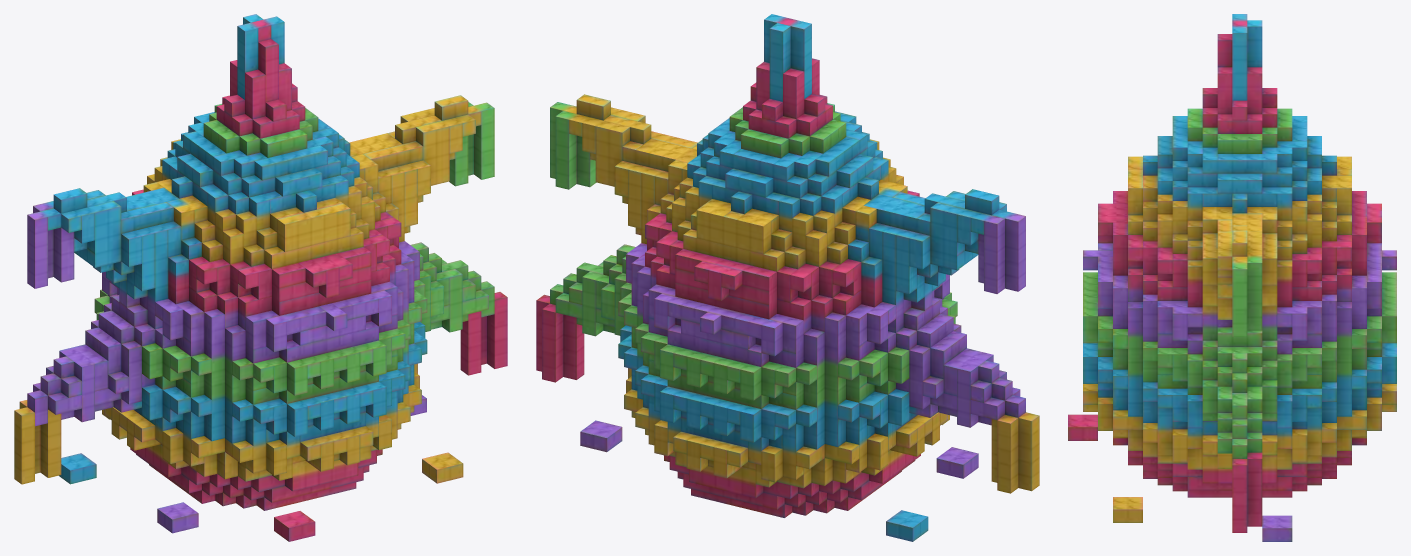
File: pinata.glb
The picture shows the model from 3 angles, left to right: view 1: azimuth 30°, elevation 25°; view 2: azimuth 150°, elevation 25°; view 3: azimuth 270°, elevation 25°; orthographic projection. The views are drawn at different scales.
Parts seen in each view (by area): view 1: Body.007; view 2: Body.007; view 3: Body.007.
Part boxes in pixels (left/top/right/bottom): Body.007: left=14, top=14, right=507, bottom=541; Body.007: left=536, top=14, right=1039, bottom=541; Body.007: left=1068, top=14, right=1396, bottom=541.
Size of the model in its own units: 5.55 by 4.8 by 3.3.
1 material, 1 textured.
